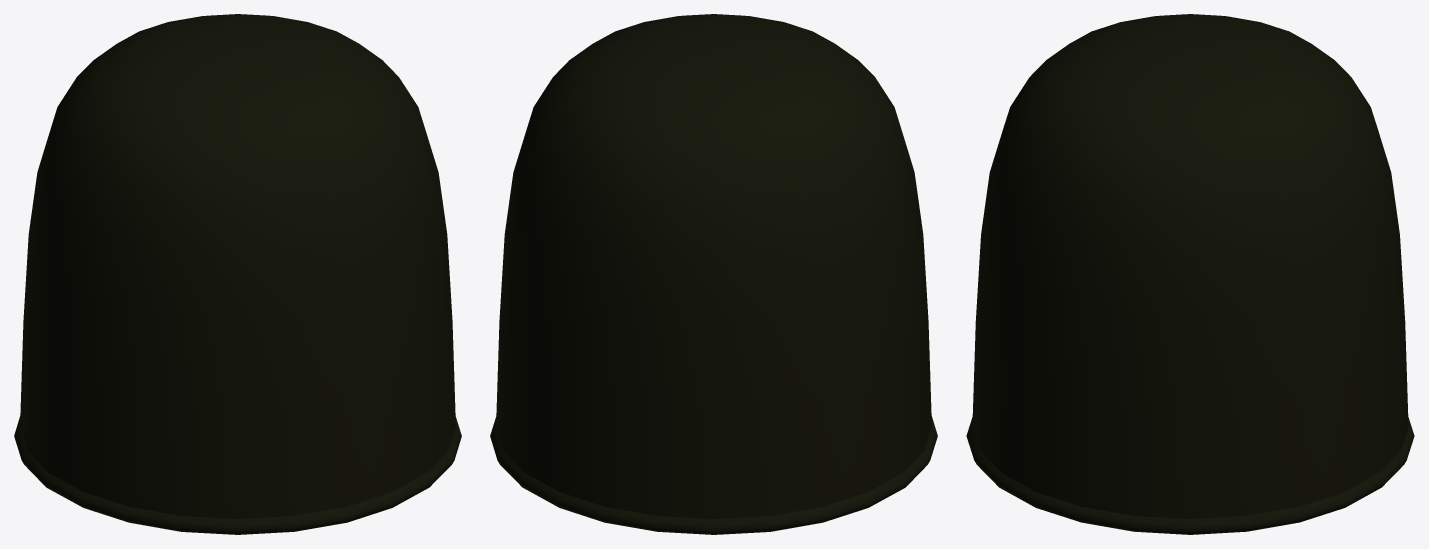
File: shaizhong2.gltf
3 views of the same model, side by side, from view 1: azimuth 30°, elevation 25°; view 2: azimuth 150°, elevation 25°; view 3: azimuth 270°, elevation 25° (orthographic).
Visible parts, largest first — view 1: shaizhong; view 2: shaizhong; view 3: shaizhong.
Boxes of the visible parts, <box> form: shaizhong: <box>14,14,461,534</box>; shaizhong: <box>490,14,937,534</box>; shaizhong: <box>966,14,1414,534</box>.
Bounding box in the file's own units: 0.053 × 0.0515 × 0.053.
Materials: 1 (1 with a texture image).
